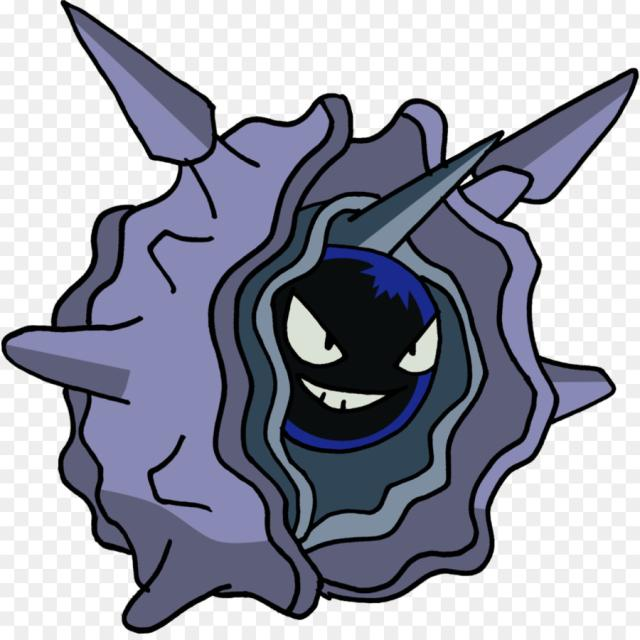Cloyster: (57, 100, 555, 603)
